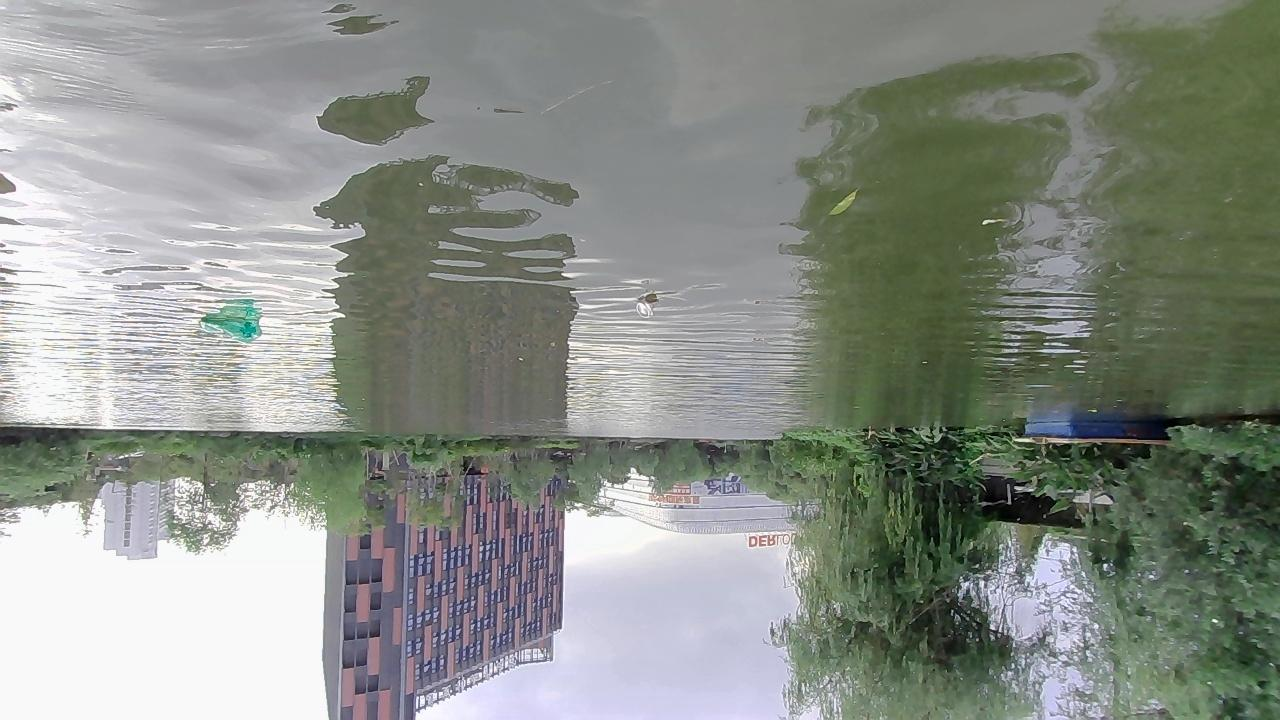Metal: (634, 298, 664, 319)
Plastic: (198, 317, 264, 346)
